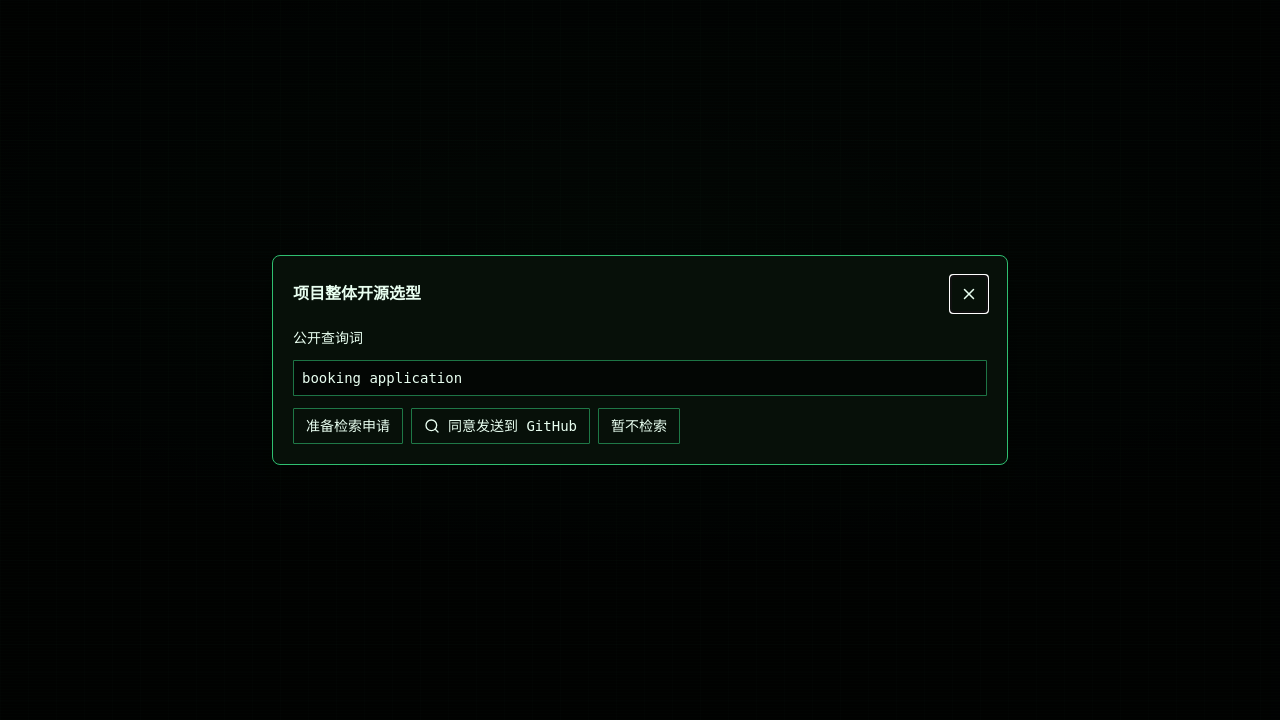
ProjectDiscoveryPanel › reports failures and keeps the proposal available for retry
What coordinates should you click on to do the following:
click the button "同意发送到 GitHub"
I would click on:
 (500, 426)
Its box is 411,408 -> 590,444.
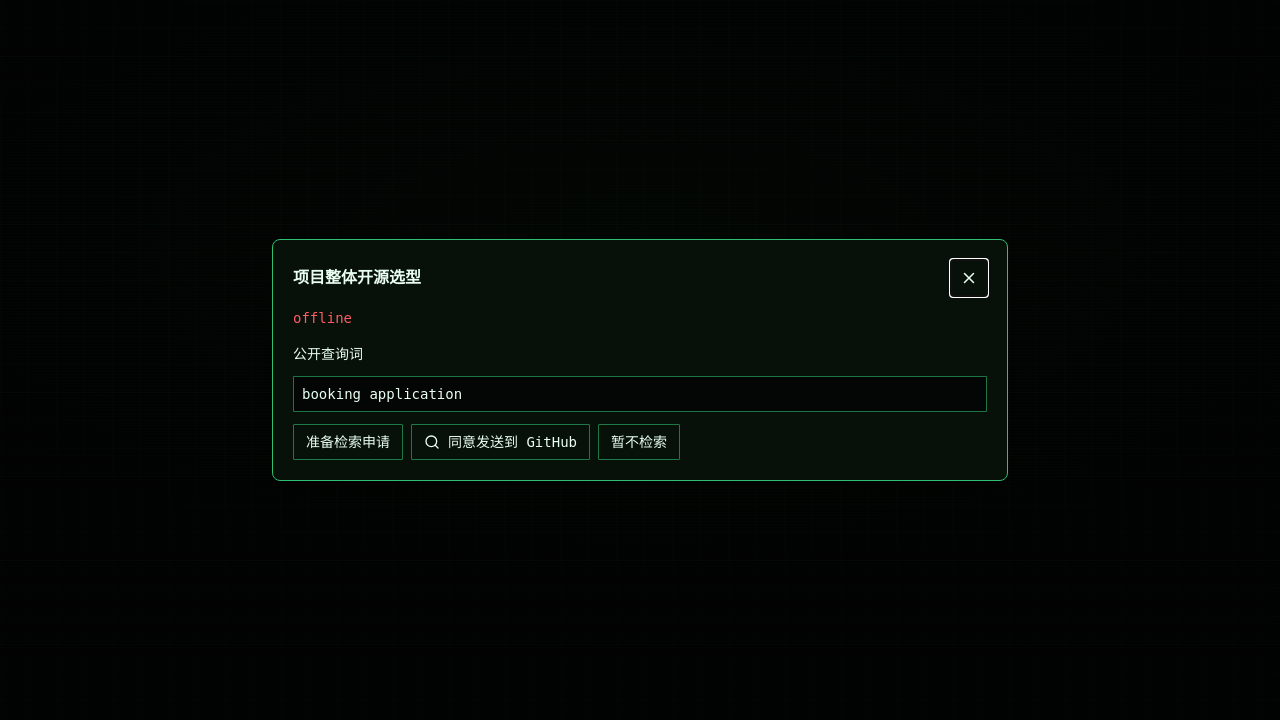
Check: the button "同意发送到 GitHub" is enabled, box 411,424 -> 590,460
Check: the message "offline" is shown, box 293,310 -> 352,326
